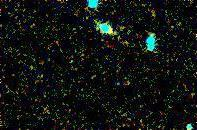star: (113, 67, 143, 97)
